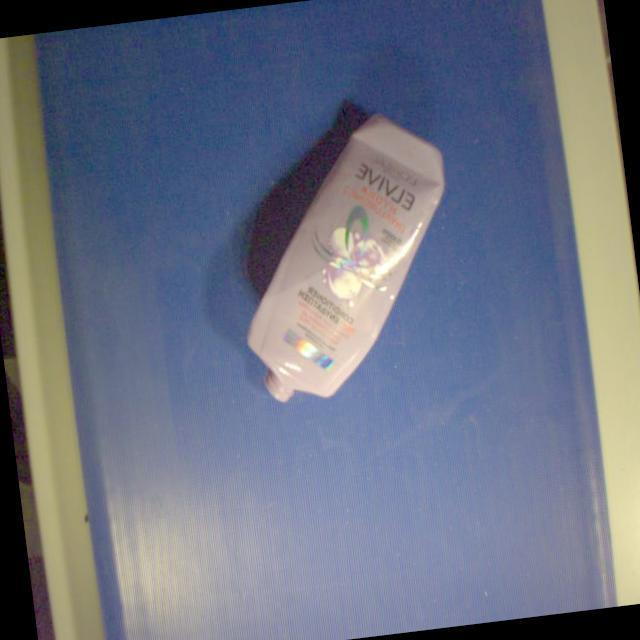HDPE Plastic: (244, 110, 448, 406)
